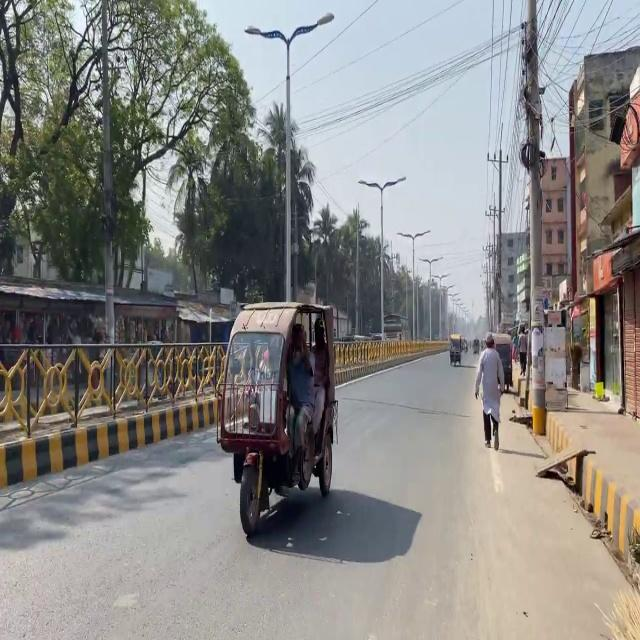Construction-barrier: (0, 389, 232, 490), (568, 466, 640, 564)
Fallen-tree: (448, 343, 462, 366)
Garbage-bin: (474, 332, 505, 448)
Light-pole: (519, 0, 544, 413), (98, 0, 117, 414)
Pole: (8, 320, 222, 488)
Pothole: (558, 374, 640, 556)
Traffic-cone: (214, 300, 339, 535)
